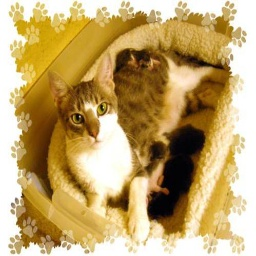cat: (46, 55, 152, 228)
